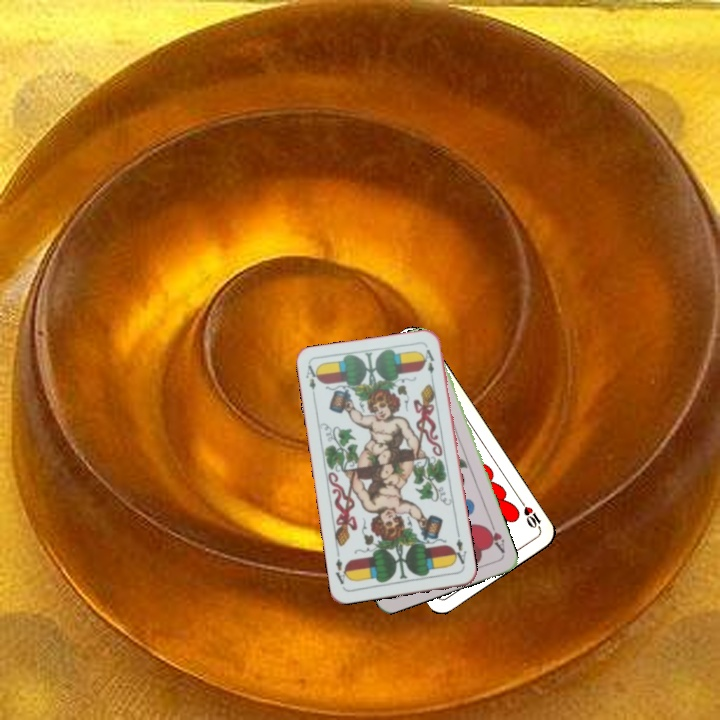EA: (301, 361, 322, 402), (449, 529, 469, 570)
H10: (516, 496, 544, 532)
HA: (481, 517, 507, 556)
